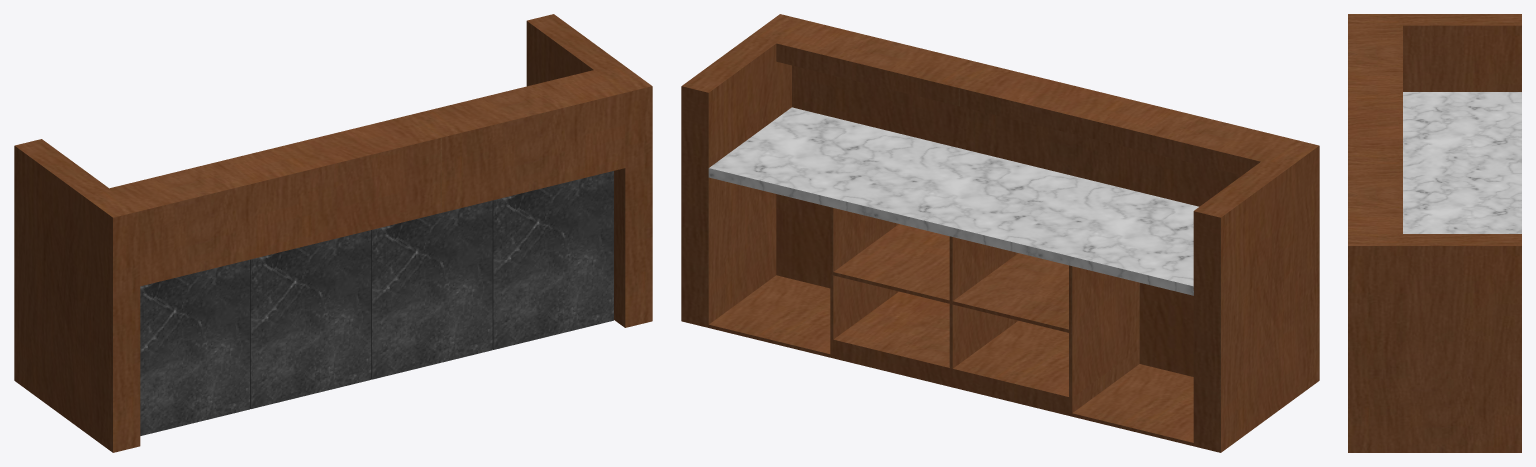
The model's file is reception_couter.glb.
The picture shows the model from 3 angles, left to right: view 1: azimuth 30°, elevation 25°; view 2: azimuth 150°, elevation 25°; view 3: azimuth 270°, elevation 25°; orthographic projection. The views are drawn at different scales.
Parts seen in each view (by area): view 1: G-Object, G-Object.007, G-Object.002, G-Object.003, G-Object.004, G-Object.005, G-Object.008; view 2: G-Object, G-Object.006, G-Object.007, G-Object.008, G-Object.009, G-Object.013, G-Object.001, G-Object.012, G-Object.015, G-Object.014, G-Object.017, G-Object.010; view 3: G-Object.008, G-Object.006, G-Object, G-Object.007.
Part boxes in pixels (bbox=[...]): G-Object: bbox=[110, 70, 625, 286]; G-Object.007: bbox=[14, 139, 140, 452]; G-Object.002: bbox=[371, 200, 492, 379]; G-Object.003: bbox=[492, 171, 613, 349]; G-Object.004: bbox=[250, 230, 371, 408]; G-Object.005: bbox=[140, 259, 249, 435]; G-Object.008: bbox=[526, 14, 652, 327]; G-Object: bbox=[776, 20, 1291, 206]; G-Object.006: bbox=[708, 107, 1198, 295]; G-Object.007: bbox=[1193, 139, 1319, 452]; G-Object.008: bbox=[681, 14, 806, 327]; G-Object.009: bbox=[830, 291, 1139, 416]; G-Object.013: bbox=[833, 224, 1068, 332]; G-Object.001: bbox=[776, 194, 1193, 376]; G-Object.012: bbox=[1069, 265, 1139, 397]; G-Object.015: bbox=[708, 275, 830, 357]; G-Object.014: bbox=[1072, 364, 1193, 446]; G-Object.017: bbox=[949, 236, 1017, 368]; G-Object.010: bbox=[830, 207, 898, 339]; G-Object.008: bbox=[1348, 234, 1521, 452]; G-Object.006: bbox=[1403, 92, 1521, 233]; G-Object: bbox=[1348, 25, 1402, 233]; G-Object.007: bbox=[1348, 14, 1521, 91].
Size of the model in its own units: 3 by 1.25 by 0.95.
3 materials, 3 textured.
